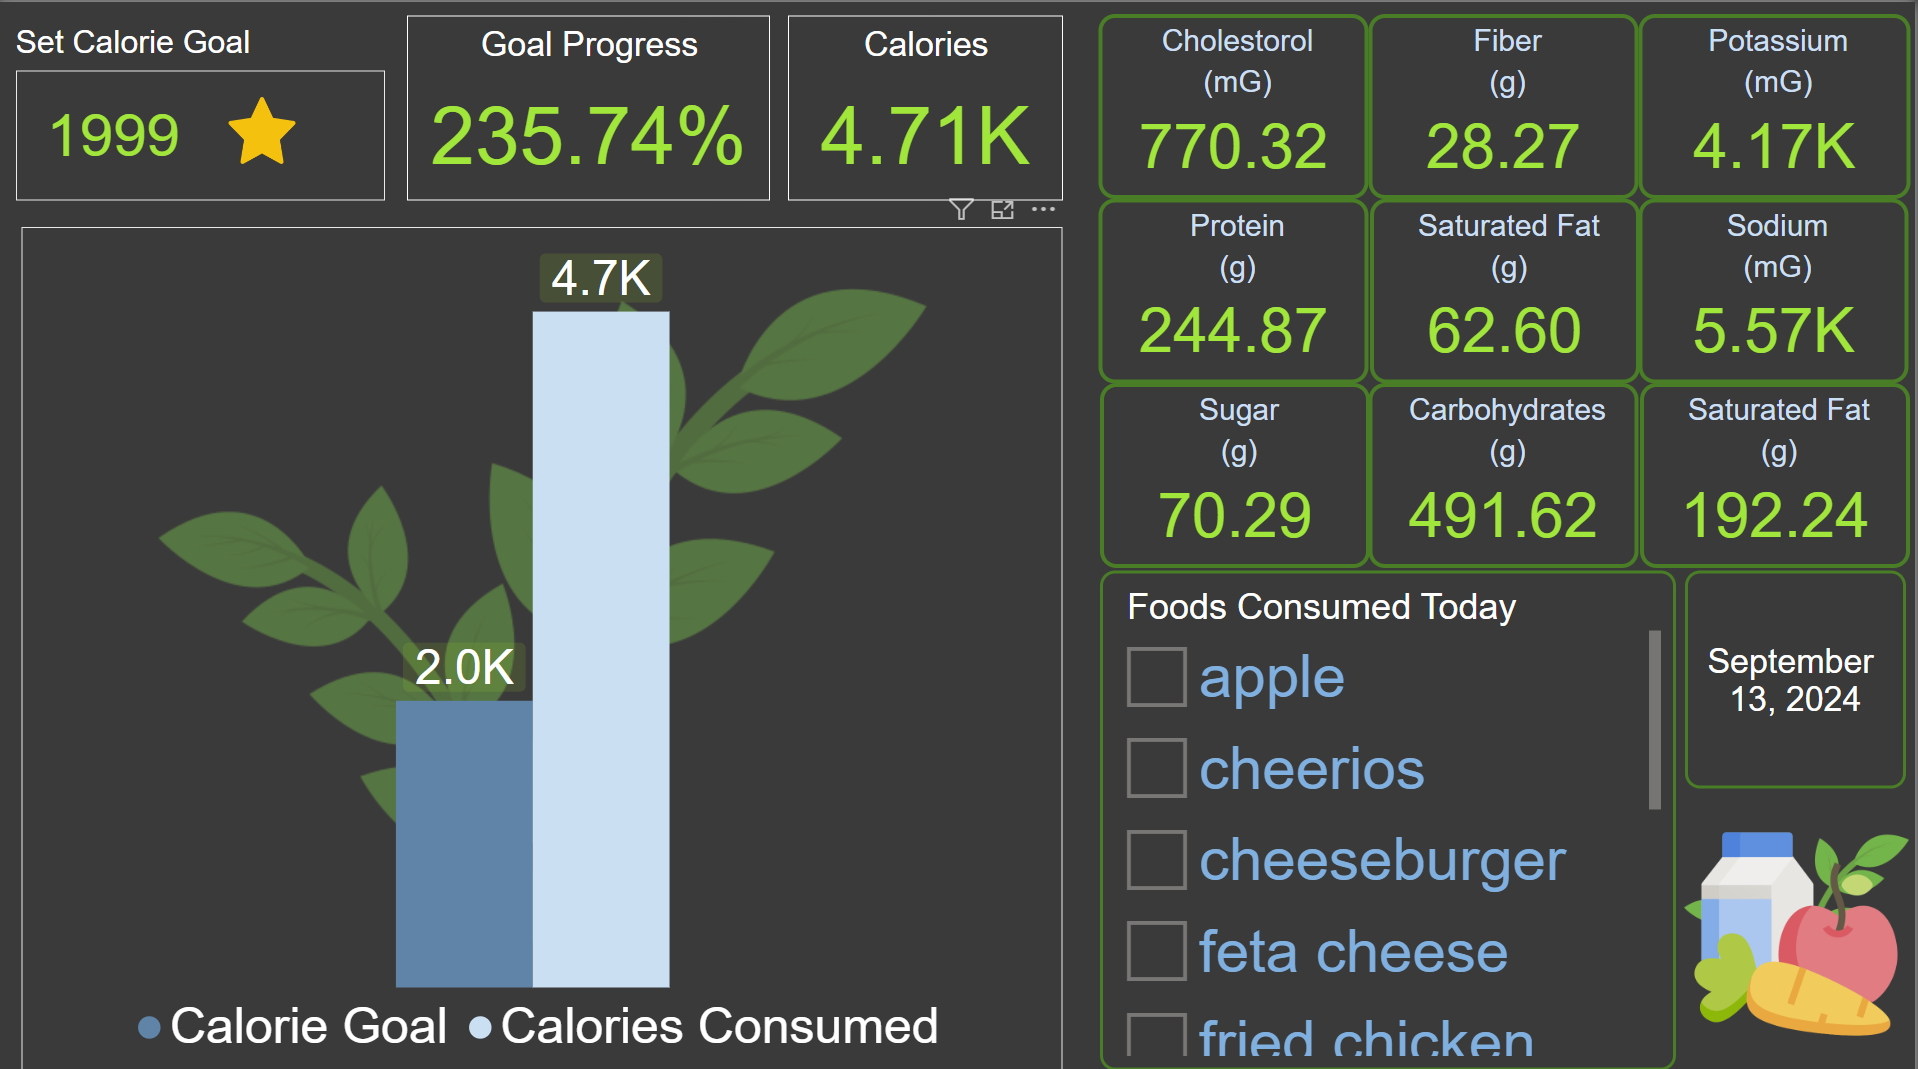

The dashboard page shown, as its layout file describes it:
{"tool":"powerbi","page":{"name":"Page 1","canvas":[1280,720],"ordinal":0},"visuals":[{"type":"card","title":"Cholestorol","fields":{"Values":["Sum(FoodInfoToday.nf_cholesterol)"]},"box":[735,8,180.2,122.7],"z":0,"group":"g2"},{"type":"card","title":"Fiber","fields":{"Values":["Sum(FoodInfoToday.nf_dietary_fiber)"]},"box":[915.2,8,180.2,122.7],"z":1000,"group":"g2"},{"type":"clusteredColumnChart","title":"Calories","fields":{"Y":["CalorieGoal.CalorieGoal Value","Sum(FoodInfoToday.nf_calories)"]},"box":[17,150,694,562],"z":1000},{"type":"card","title":"Potassium","fields":{"Values":["Sum(FoodInfoToday.nf_potassium)"]},"box":[1095.5,8,180.2,122.7],"z":2000,"group":"g2"},{"type":"card","fields":{"Values":["CalorieGoal.%There"]},"box":[274,9,242,123],"z":2000},{"type":"slicer","fields":{"Values":["CalorieGoal 2.CalorieGoal"]},"box":[0,9,302,157],"z":3000},{"type":"card","title":"Protein","fields":{"Values":["Sum(FoodInfoToday.nf_protein)"]},"box":[735.2,130.8,180.2,122.9],"z":3000,"group":"g2"},{"type":"group","id":"g1","title":"Group 1","box":[735,8,541,370],"z":4000},{"type":"card","title":"Saturated Fat","fields":{"Values":["Sum(FoodInfoToday.nf_saturated_fat)"]},"box":[915.8,131,180.2,123.1],"z":4000,"group":"g2"},{"type":"group","id":"g2","title":"Group 2","box":[735,8,541.4,370],"z":4001,"group":"g1"},{"type":"card","title":"Sodium","fields":{"Values":["Sum(FoodInfoToday.nf_sodium)"]},"box":[1095,131,180.2,123.1],"z":5000,"group":"g2"},{"type":"slicer","fields":{"Values":["FoodInfoToday.food_name"]},"box":[736,379,384,333],"z":5000},{"type":"card","title":"Sugar","fields":{"Values":["Sum(FoodInfoToday.nf_sugars)"]},"box":[735.6,254.1,180.2,123.1],"z":6000,"group":"g2"},{"type":"image","box":[1120,527,160,185],"z":6000},{"type":"card","title":"Carbohydrates","fields":{"Values":["Sum(FoodInfoToday.nf_total_carbohydrate)"]},"box":[914.8,254.1,180.2,123.1],"z":7000,"group":"g2"},{"type":"card","fields":{"Values":["CalorieGoal.Date"]},"box":[1126,379,147,145],"z":7000},{"type":"card","title":"Saturated Fat","fields":{"Values":["Sum(FoodInfoToday.nf_total_fat)"]},"box":[1096,254.1,180.2,123.1],"z":8000,"group":"g2"},{"type":"image","box":[1120,546,160,150],"z":8000},{"type":"card","fields":{"Values":["Sum(FoodInfoToday.nf_calories)"]},"box":[528,9,183,123],"z":9000},{"type":"image","box":[103,58,149,55],"z":9001}]}

Visuals, with their boxes in screenshot pixels (x1, y1, x2, y2), scaled from the page's 1280x720 canvas onto the 1918x1069 screenshot:
"Cholestorol" card: [x1=1101, y1=12, x2=1371, y2=194]
"Fiber" card: [x1=1371, y1=12, x2=1641, y2=194]
"Calories" clusteredColumnChart: [x1=25, y1=223, x2=1065, y2=1057]
"Potassium" card: [x1=1642, y1=12, x2=1912, y2=194]
card - CalorieGoal.%There: [x1=411, y1=13, x2=773, y2=196]
slicer - CalorieGoal 2.CalorieGoal: [x1=0, y1=13, x2=453, y2=246]
"Protein" card: [x1=1102, y1=194, x2=1372, y2=377]
"Group 1" group: [x1=1101, y1=12, x2=1912, y2=561]
"Saturated Fat" card: [x1=1372, y1=194, x2=1642, y2=377]
"Group 2" group: [x1=1101, y1=12, x2=1913, y2=561]
"Sodium" card: [x1=1641, y1=194, x2=1911, y2=377]
slicer - FoodInfoToday.food_name: [x1=1103, y1=563, x2=1678, y2=1057]
"Sugar" card: [x1=1102, y1=377, x2=1372, y2=560]
image: [x1=1678, y1=782, x2=1917, y2=1057]
"Carbohydrates" card: [x1=1371, y1=377, x2=1641, y2=560]
card - CalorieGoal.Date: [x1=1687, y1=563, x2=1908, y2=778]
"Saturated Fat" card: [x1=1642, y1=377, x2=1912, y2=560]
image: [x1=1678, y1=811, x2=1917, y2=1033]
card - Sum(FoodInfoToday.nf_calories): [x1=791, y1=13, x2=1065, y2=196]
image: [x1=154, y1=86, x2=378, y2=168]
